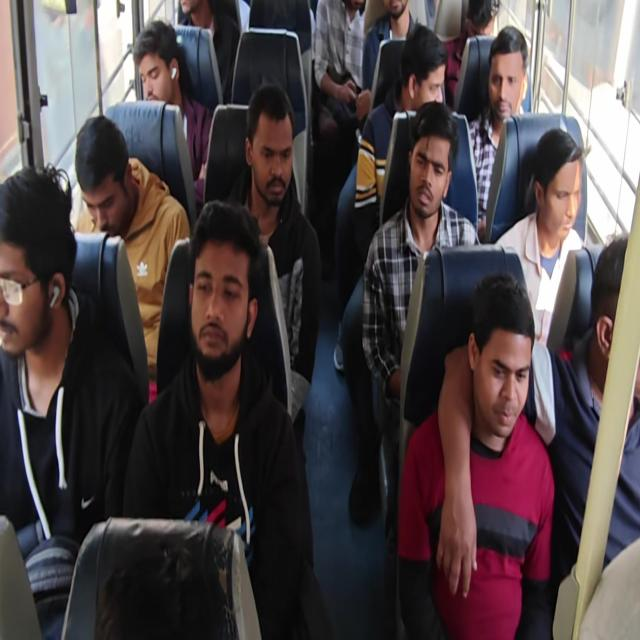person: (0, 188, 64, 376), (466, 312, 530, 463), (588, 242, 640, 402), (78, 128, 142, 229), (192, 234, 244, 352), (534, 154, 586, 240), (258, 109, 292, 203), (482, 46, 524, 118), (136, 38, 178, 108), (406, 47, 445, 118), (414, 136, 448, 210), (458, 0, 498, 42), (332, 0, 370, 32), (168, 0, 211, 26), (374, 0, 410, 30)
